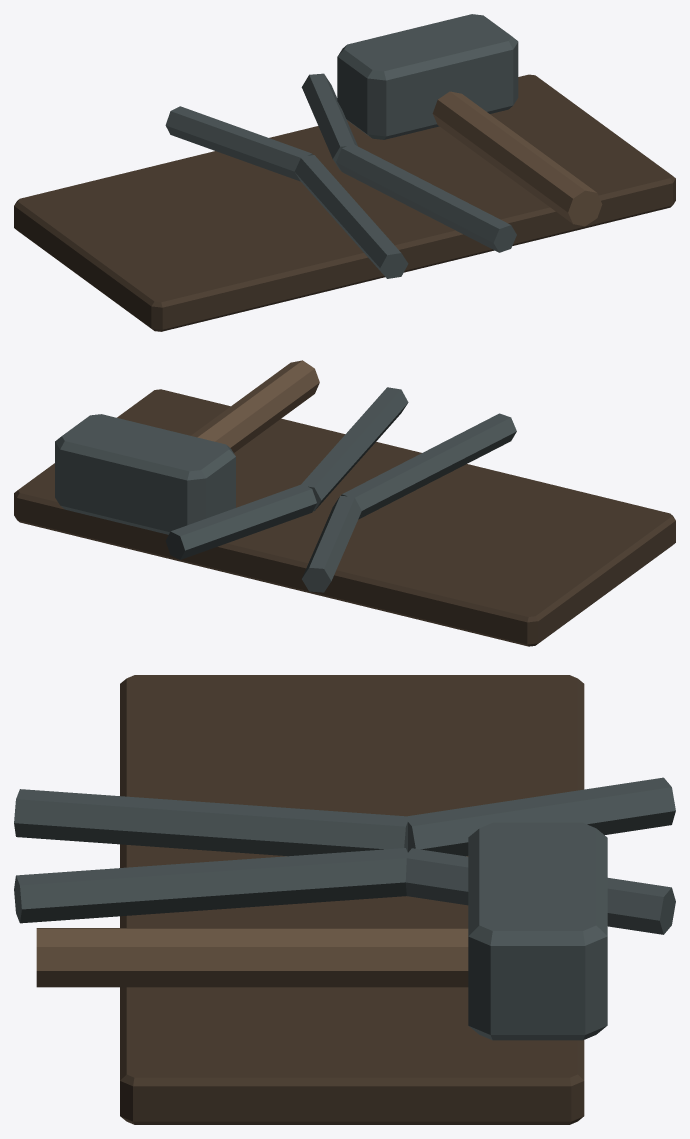
Rendered from tongs-tray.glb.
3 renders of one model, top to bottom at view 1: azimuth 30°, elevation 25°; view 2: azimuth 150°, elevation 25°; view 3: azimuth 270°, elevation 25°, orthographic. The views are drawn at different scales.
Parts seen in each view (by area): view 1: tongs-tray__body; view 2: tongs-tray__body; view 3: tongs-tray__body.
Boxes of the visible parts, left/top/right/bottom form: tongs-tray__body: left=14, top=14, right=675, bottom=331; tongs-tray__body: left=14, top=360, right=675, bottom=646; tongs-tray__body: left=14, top=675, right=675, bottom=1124.
Size of the model in its own units: 0.52 by 0.093 by 0.3565.
